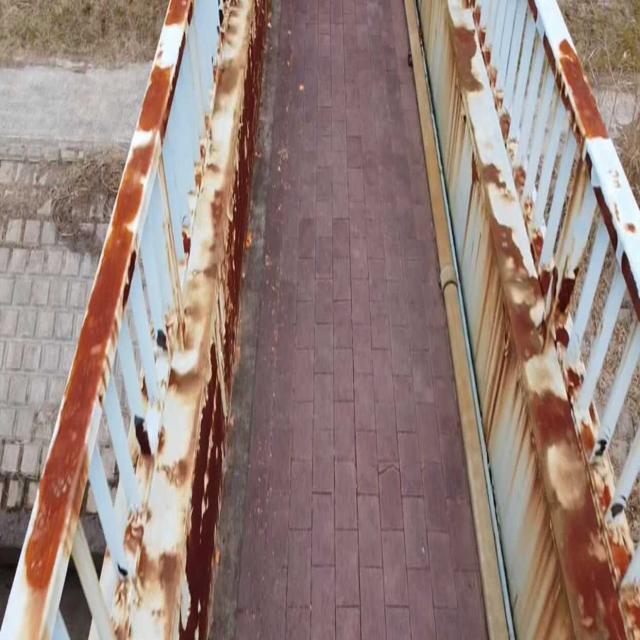corrosion: (27, 37, 267, 640), (425, 24, 640, 639)
